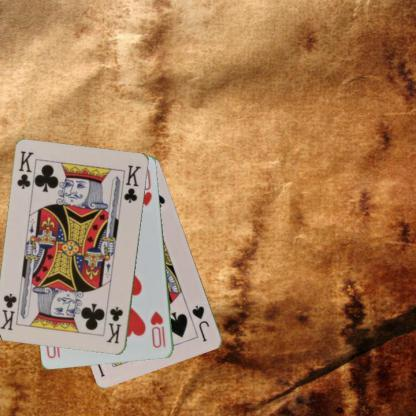10h: (148, 308, 167, 350)
Js: (189, 302, 211, 344)
Kc: (14, 148, 36, 190), (104, 304, 124, 344)
